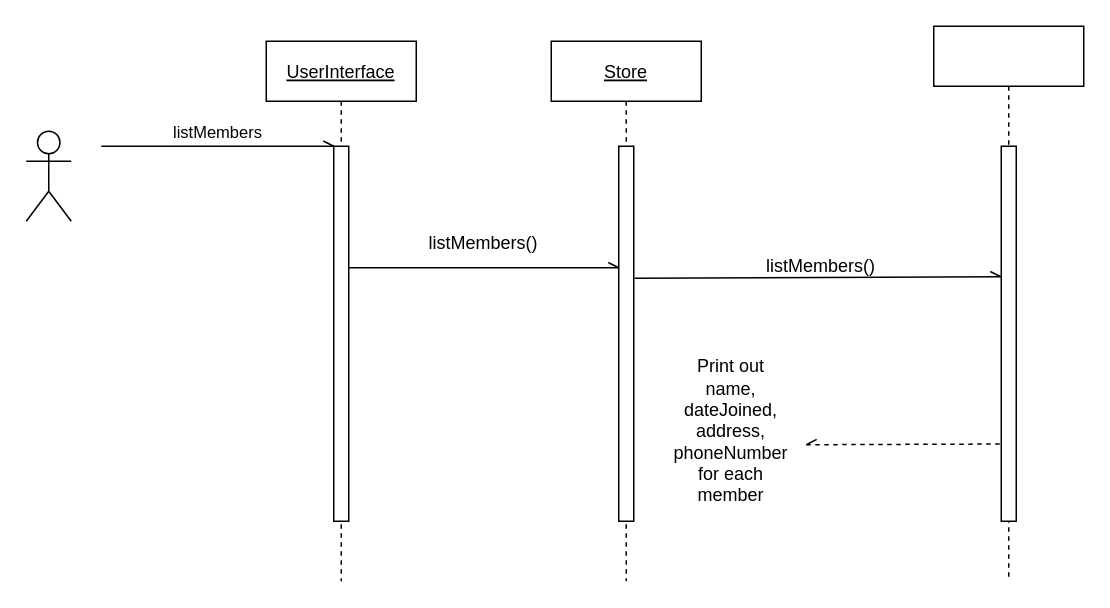
The diagram is 1110 pixels wide and 608 high, and some of its shapes have lost their labels. Here are the shapes that lost their labels. From the top down, the box of each, then its label:
(25, 130, 71, 221): Clerk
(932, 25, 1084, 581): MemberList
